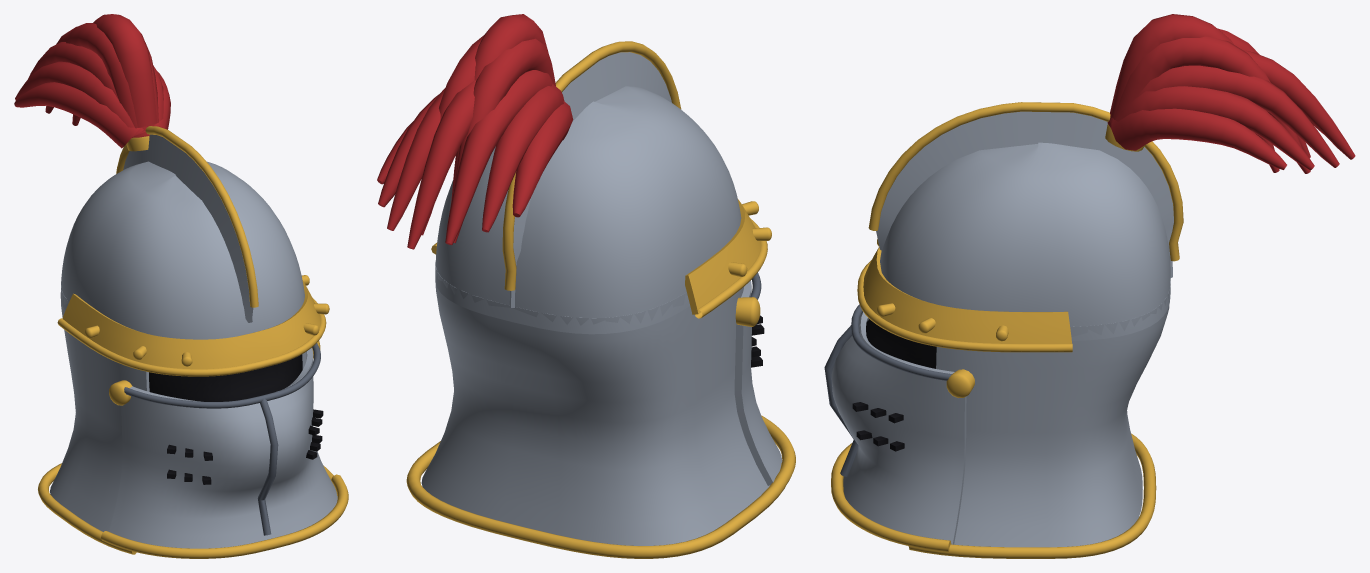
Rendered from h_great_f.glb.
3 views of the same model, side by side, from view 1: azimuth 30°, elevation 25°; view 2: azimuth 150°, elevation 25°; view 3: azimuth 270°, elevation 25° (orthographic). The views are drawn at different scales.
Visible parts, largest first — view 1: Great; view 2: Great; view 3: Great.
Boxes of the visible parts, x1=… form: Great: x1=14, y1=14, x2=348, y2=558; Great: x1=377, y1=14, x2=795, y2=558; Great: x1=824, y1=14, x2=1355, y2=558.
Size of the model in its own units: 0.2858 by 0.4696 by 0.4727.
